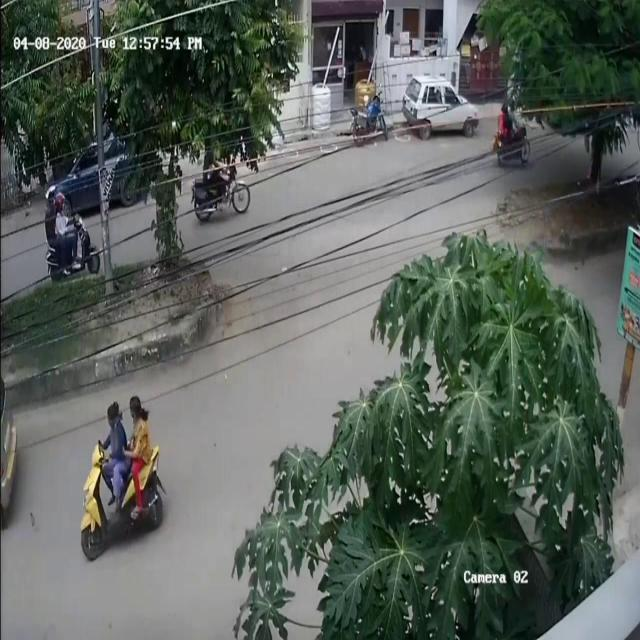accident: (66, 385, 169, 569)
